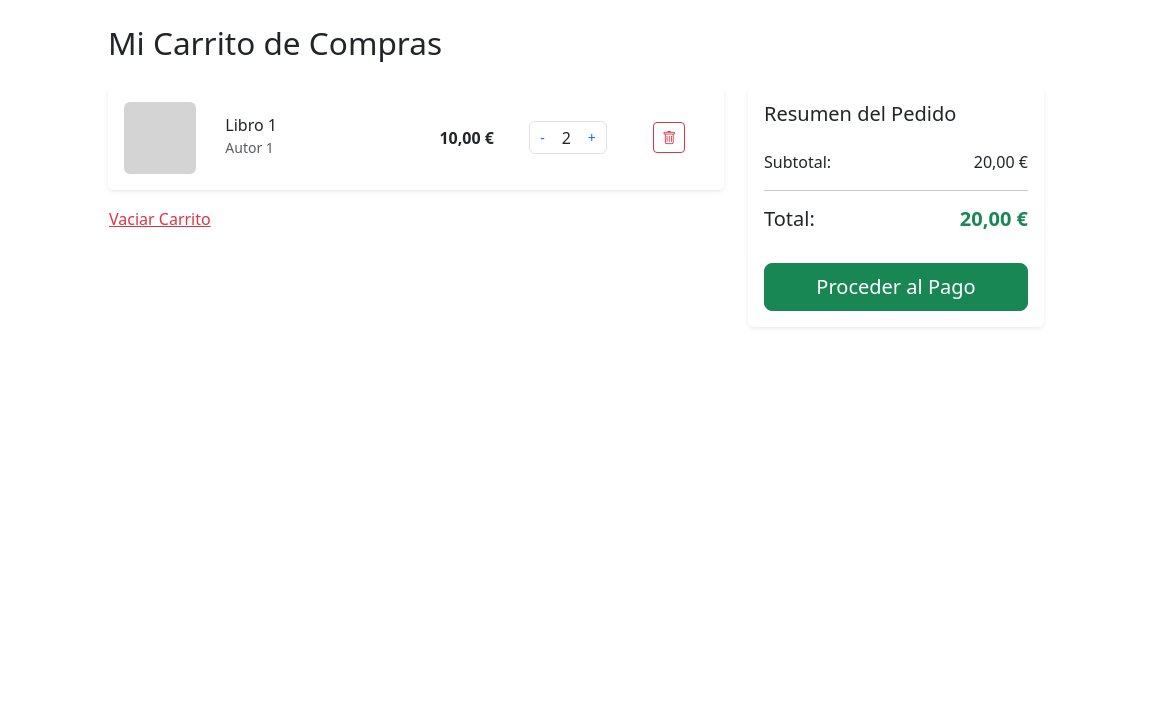
Carrito Component › abre modal de checkout si usuario está autenticado
Click the button "Proceder al Pago" at (896, 287), box x1=764 y1=263 x2=1028 y2=311
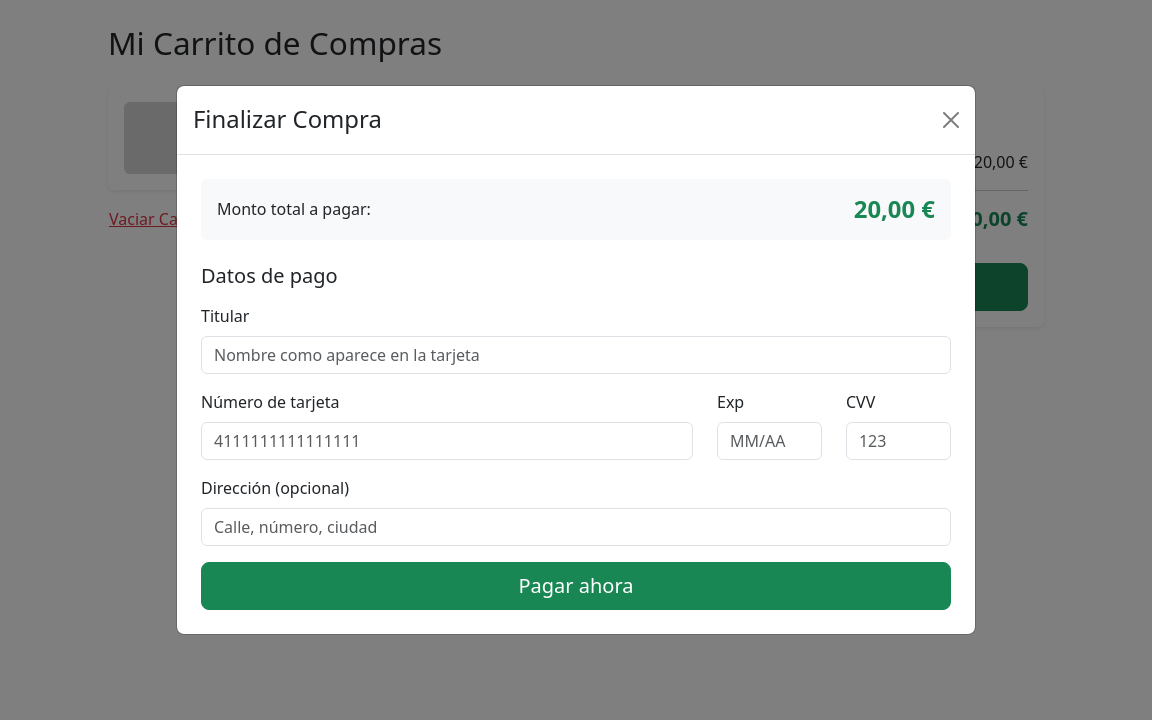
Expected: the text "Finalizar Compra" is shown, x1=193 y1=102 x2=382 y2=138
